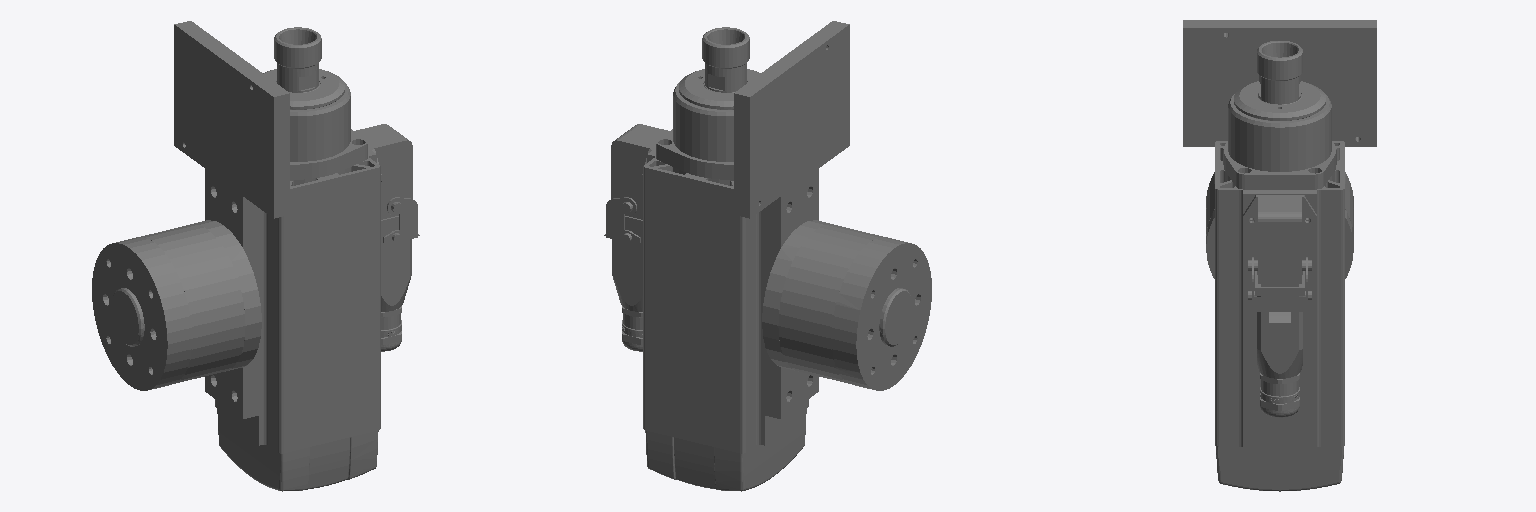
robot.urdf — test_bed:
<?xml version="1.0" encoding="utf-8"?>
<!-- This URDF was automatically created by SolidWorks to URDF Exporter! Originally created by [author] ([email redacted]) 
     Commit Version: 1.5.1-0-g916b5db  Build Version: 1.5.7152.31018
     For more information, please see http://wiki.ros.org/sw_urdf_exporter -->
<robot
  name="test_bed">
  <link
    name="base_link">
    <inertial>
      <origin
        xyz="0.062333 0.11301 0.77365"
        rpy="0 0 0" />
      <mass
        value="199.8" />
      <inertia
        ixx="13.894"
        ixy="0.0019545"
        ixz="0.023833"
        iyy="12.848"
        iyz="-0.025529"
        izz="22.024" />
    </inertial>
    <visual>
      <origin
        xyz="0 0 0"
        rpy="0 0 0" />
      <geometry>
        <mesh
          filename="package://test_bed/meshes/base_link.STL" />
      </geometry>
      <material
        name="">
        <color
          rgba="0.52549 0.52549 0.52549 1" />
      </material>
    </visual>
    <collision>
      <origin
        xyz="0 0 0"
        rpy="0 0 0" />
      <geometry>
        <mesh
          filename="package://test_bed/meshes/base_link.STL" />
      </geometry>
    </collision>
  </link>
</robot>

--- Render facts (derived) ---
The picture shows the robot from 3 angles, left to right: view 1: azimuth 30°, elevation 25°; view 2: azimuth 150°, elevation 25°; view 3: azimuth 270°, elevation 25°; orthographic projection.
Model test_bed with 1 links and 0 joints (none), rooted at base_link, posed every joint at zero.
Links seen in each view (by area): view 1: base_link; view 2: base_link; view 3: base_link.
Link boxes in pixels (left/top/right/bottom): base_link: left=92, top=21, right=419, bottom=491; base_link: left=604, top=21, right=931, bottom=491; base_link: left=1183, top=20, right=1376, bottom=491.
Size in the robot's own frame: 0.1765 by 0.105 by 0.251 metres.
1 mesh visuals loaded from 1 distinct referenced files (1 binary STL).